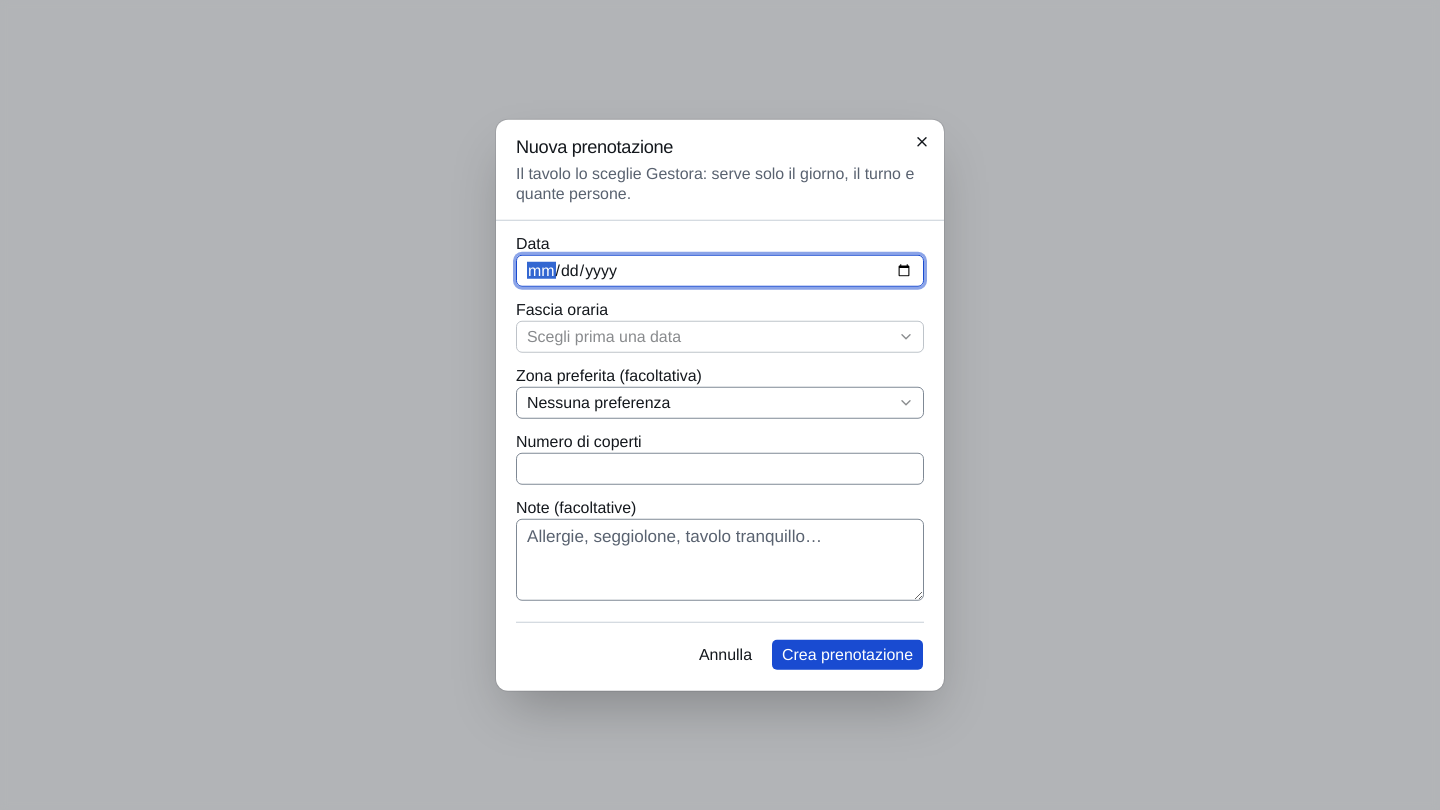
Test: PrenotazioneModal - limite online dei coperti › Cliente oltre 20: invito a contattare il ristorante e pulsante disattivato
Type "21" into the number field labelled "Numero di coperti".
click(720, 469); type("21")  # box [516,453,924,485]
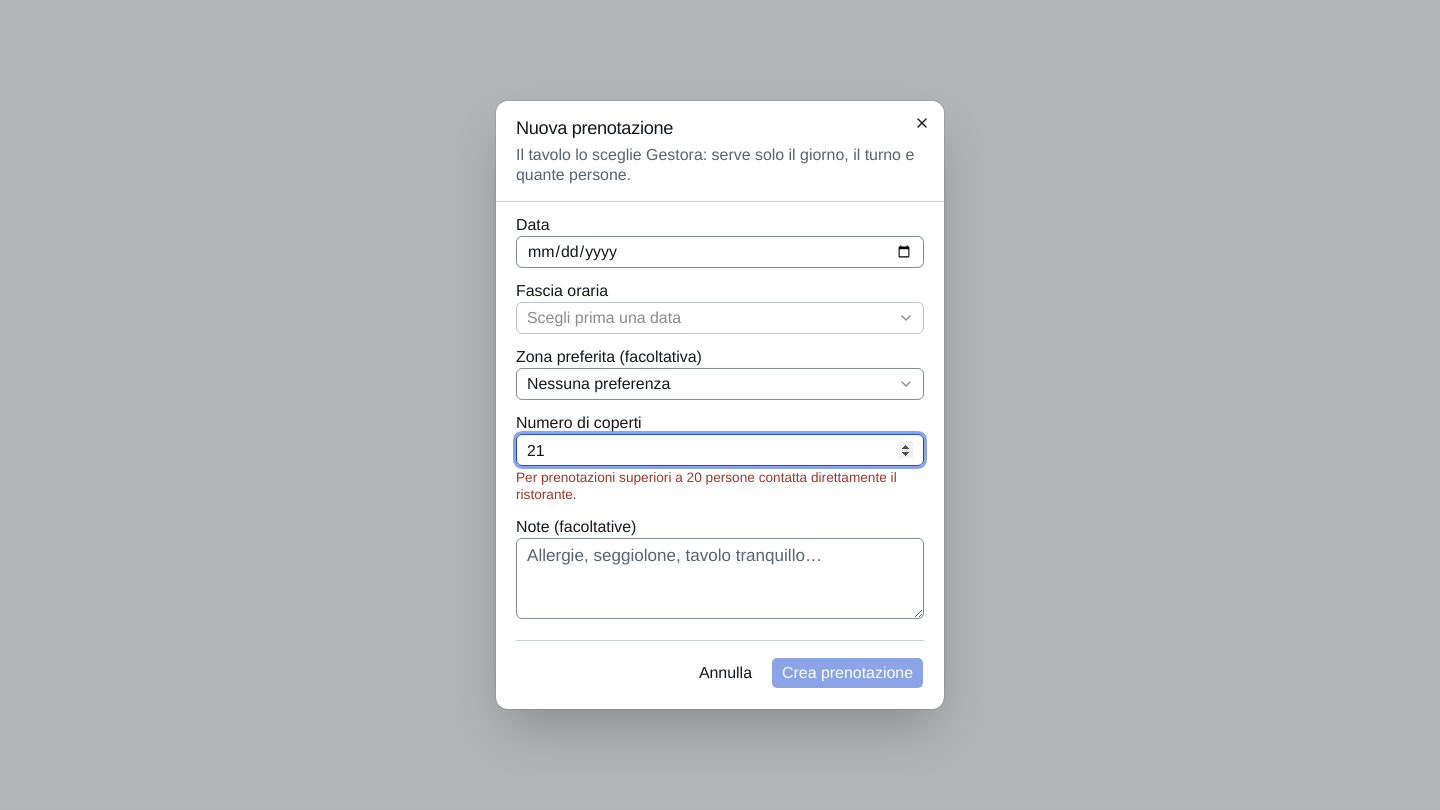
Now the button "Crea prenotazione" is disabled, box [771,657,924,689]
